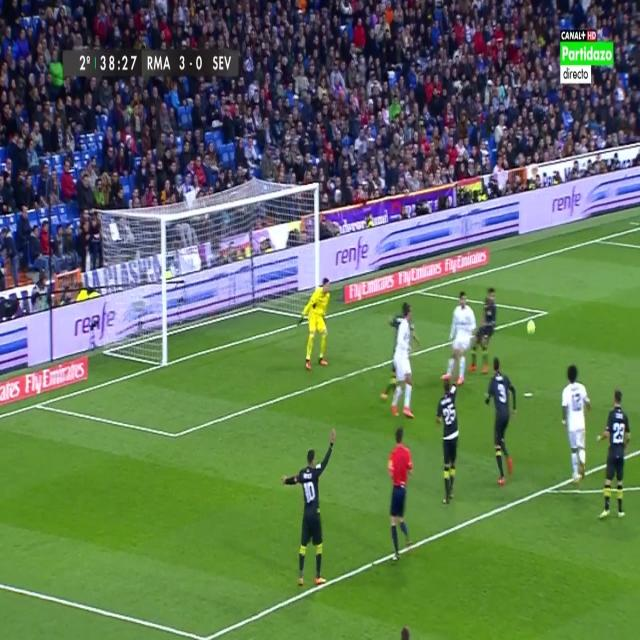Ball: (524, 316, 536, 337)
Goalkeeper: (296, 275, 332, 371)
Player: (281, 424, 339, 589), (483, 355, 519, 488), (597, 390, 632, 522), (560, 360, 593, 483), (440, 291, 477, 385), (391, 304, 418, 422), (436, 376, 460, 506), (468, 282, 500, 374)
Referee: (387, 425, 413, 567)
